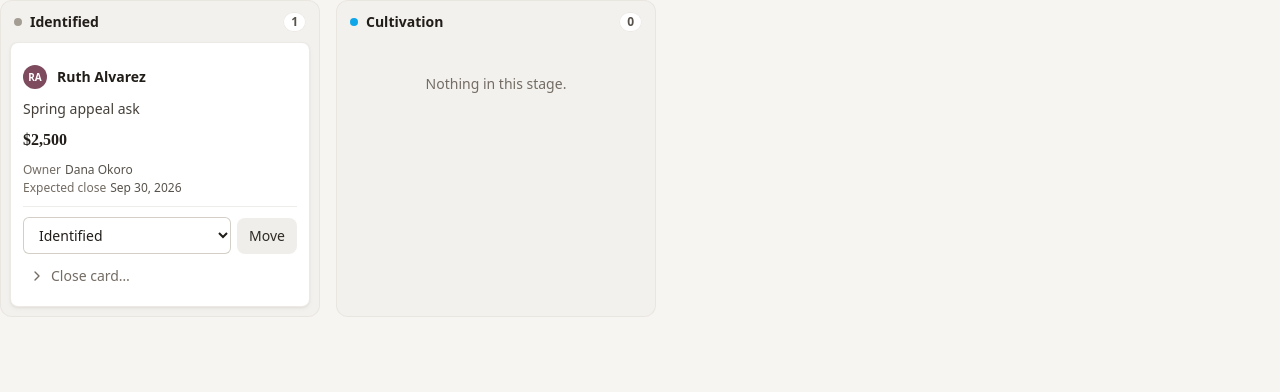
Test: PipelineBoard › announces the result and takes focus, because the card it applied to has moved away
Click the button "Move": [267, 236] box 237,218 -> 297,254
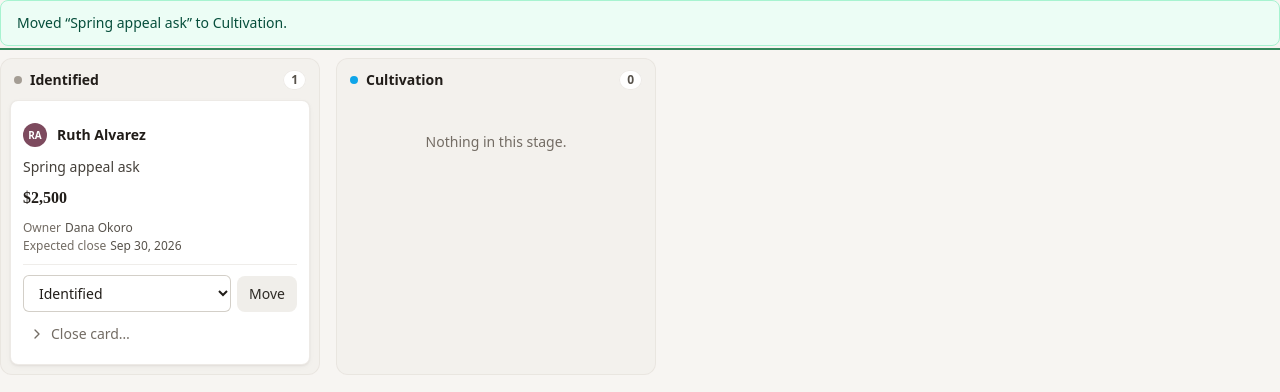
Check: the message reads "Moved “Spring appeal ask” to Cultivation.", box 17,13 -> 287,32
